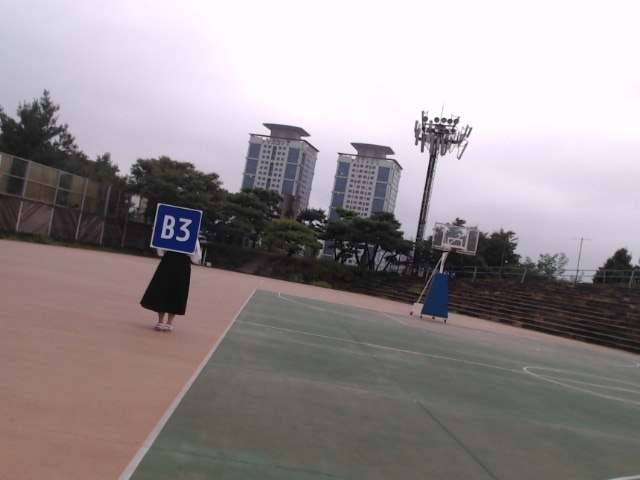delivery_b3: (152, 202, 202, 253)
